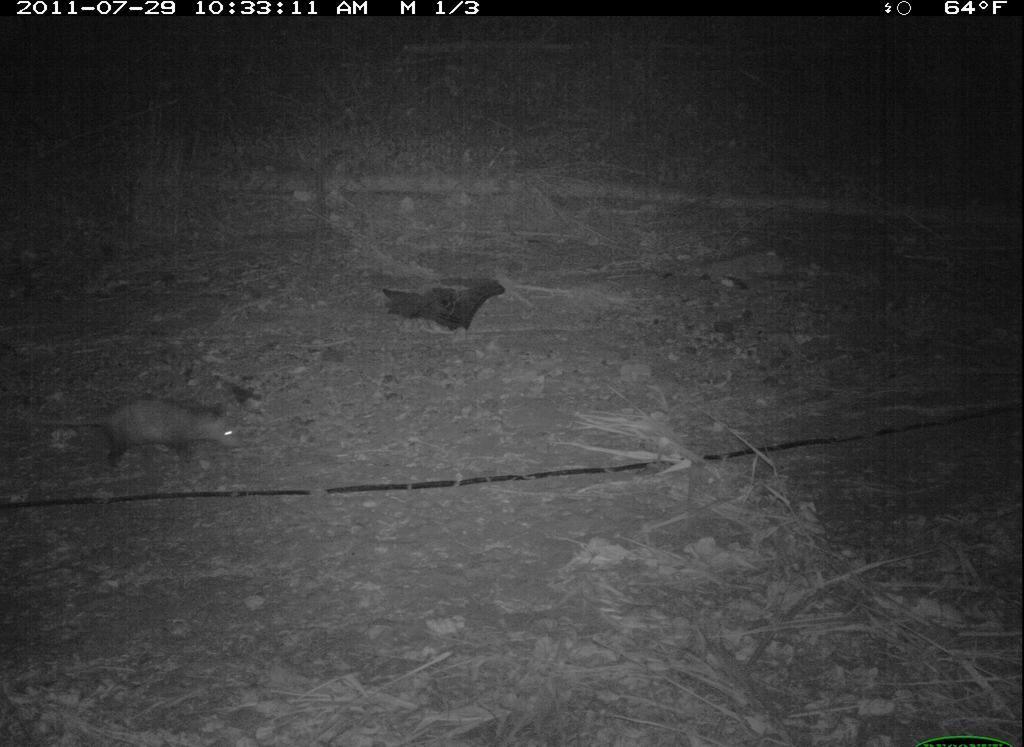opossum: (41, 392, 248, 475)
